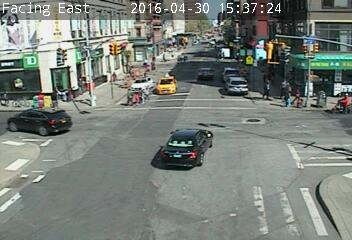neg: (13, 91, 42, 130), (203, 27, 229, 61), (102, 33, 124, 61), (268, 30, 286, 54), (151, 34, 167, 56), (253, 20, 267, 40), (180, 28, 194, 47), (79, 51, 93, 68), (132, 44, 145, 61)
pos: (43, 85, 65, 114), (280, 81, 298, 106), (137, 82, 154, 105), (290, 85, 307, 107), (260, 77, 276, 98), (73, 74, 87, 93), (122, 87, 135, 105)
